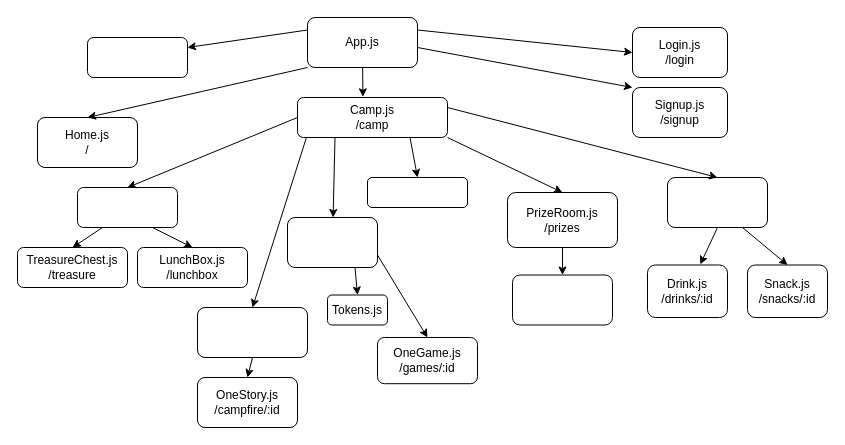
The diagram is 845 pixels wide and 445 high, and some of its shapes have lost their labels. The shapes that lost their labels are listed below. From the top down, each one's centre as x and y in pixels, then its label:
At point (137, 57): "Navbar.js (routes)".
At point (127, 207): "CampCabin.js /camp/cabin".
At point (417, 192): "Search.js".
At point (717, 202): "SnackBar.js /snackbar".
At point (332, 242): "Games.js /games".
At point (562, 299): "OnePrize.js /prizes/:id".
At point (252, 332): "CampfireStories.js /campfire".
